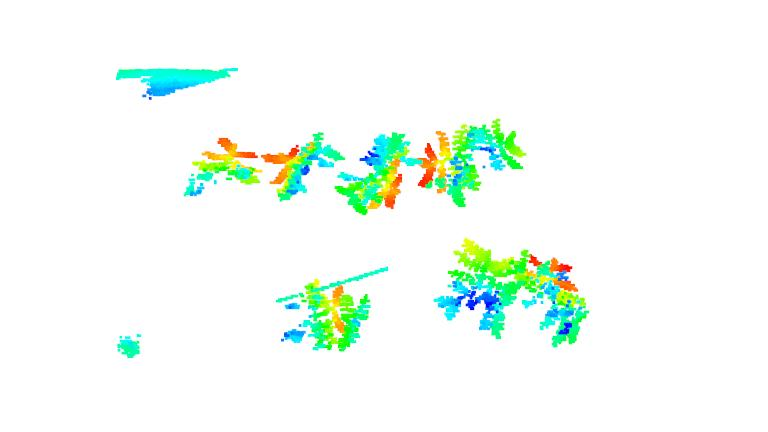chickpea: (414, 119, 527, 210), (515, 246, 589, 354), (441, 235, 514, 341), (334, 126, 415, 217), (281, 277, 371, 353), (262, 125, 344, 200), (178, 134, 260, 196)
